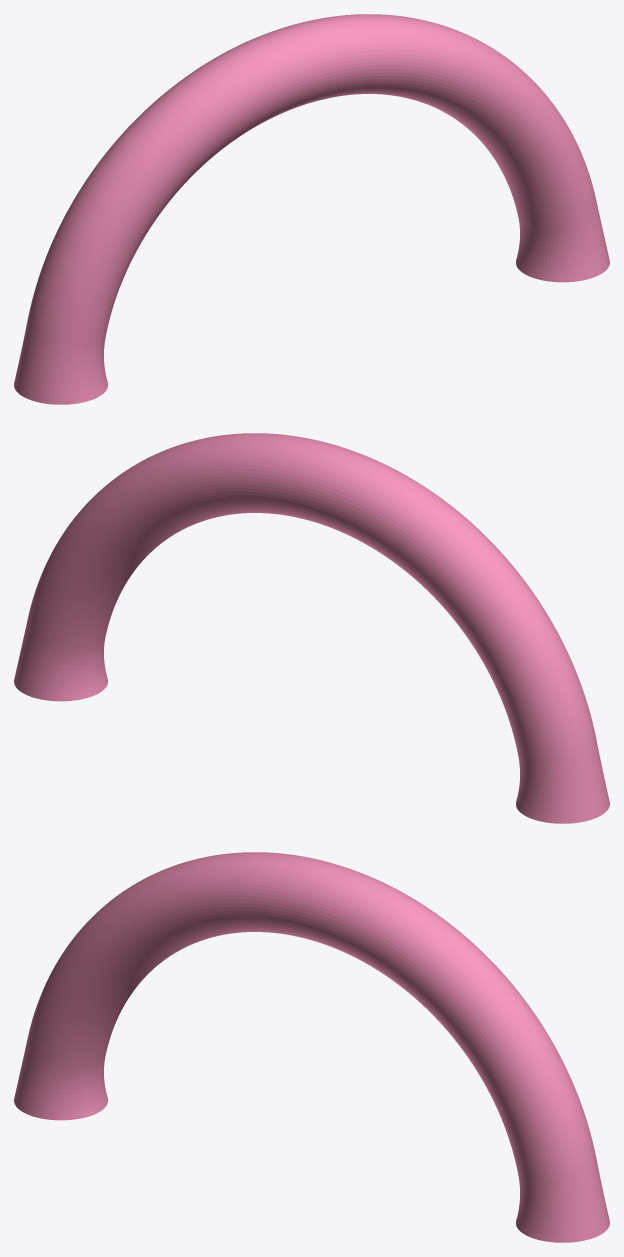
Rendered from arch_pink.glb.
3 views of the same model, one above another, from view 1: azimuth 30°, elevation 25°; view 2: azimuth 150°, elevation 25°; view 3: azimuth 330°, elevation 25° (orthographic).
Parts seen in each view (by area): view 1: geometry_0; view 2: geometry_0; view 3: geometry_0.
Boxes of the visible parts, x1,y1,x2,y2 form: geometry_0: [14, 14, 609, 404]; geometry_0: [14, 433, 609, 823]; geometry_0: [14, 852, 609, 1242].
Bounding box in the file's own units: 10.46 × 5.12 × 1.46.
